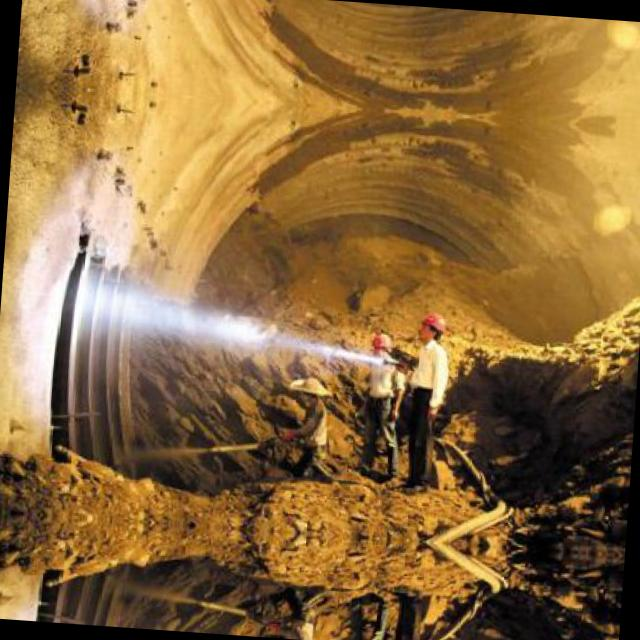helmet: (412, 306, 449, 348), (369, 328, 396, 361)
